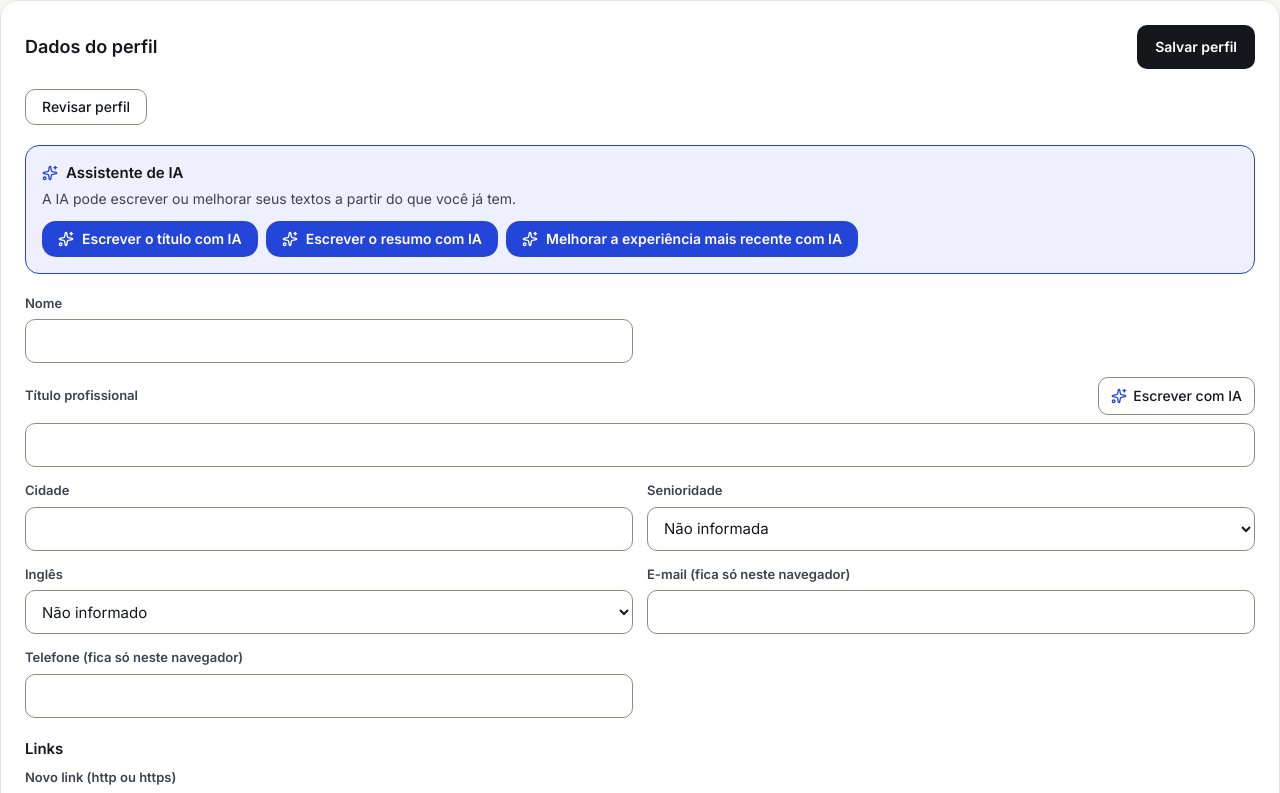
Test: Revisar perfil › lista os achados
Click the button "Revisar perfil": (86, 107) [25, 89, 147, 125]
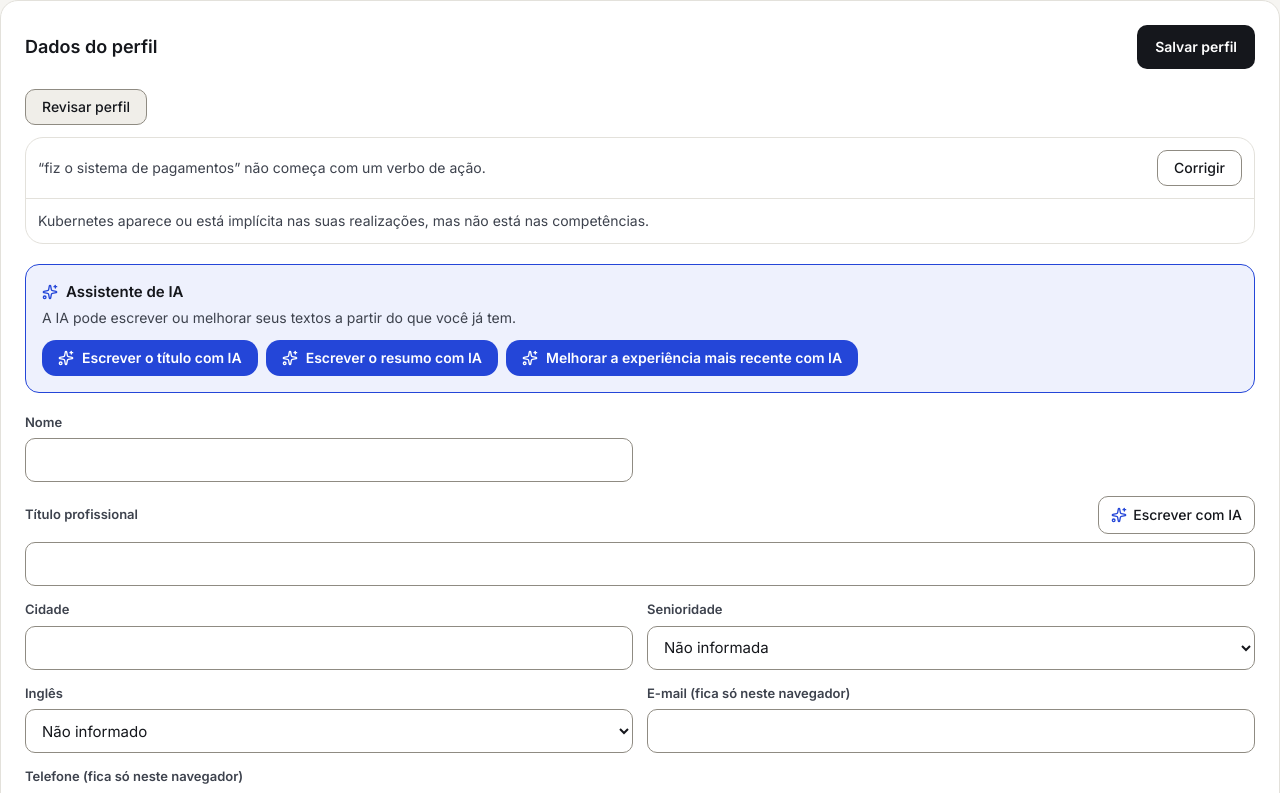
Now the list named "Achados da revisão" shows "fiz o sistema de pagamentos", box [38, 159, 486, 176]
Now the list named "Achados da revisão" shows "Kubernetes", box [38, 212, 649, 229]
